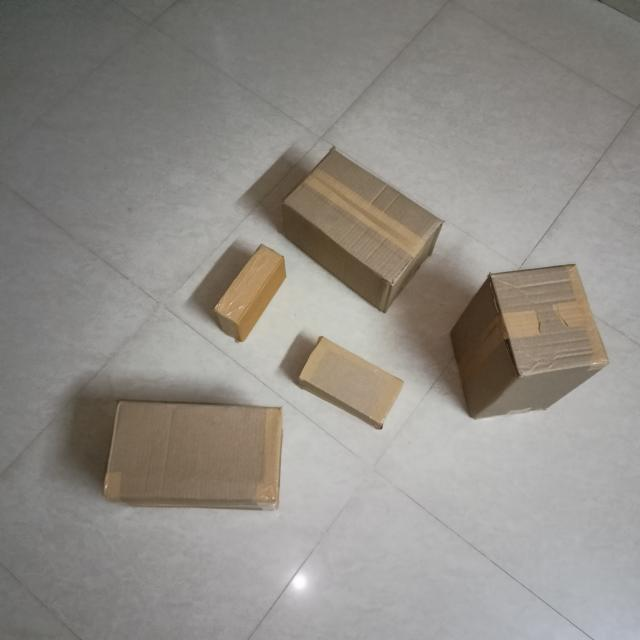box: (291, 149, 443, 285), (104, 402, 285, 503), (494, 261, 611, 374), (302, 336, 406, 422), (218, 246, 284, 325)
